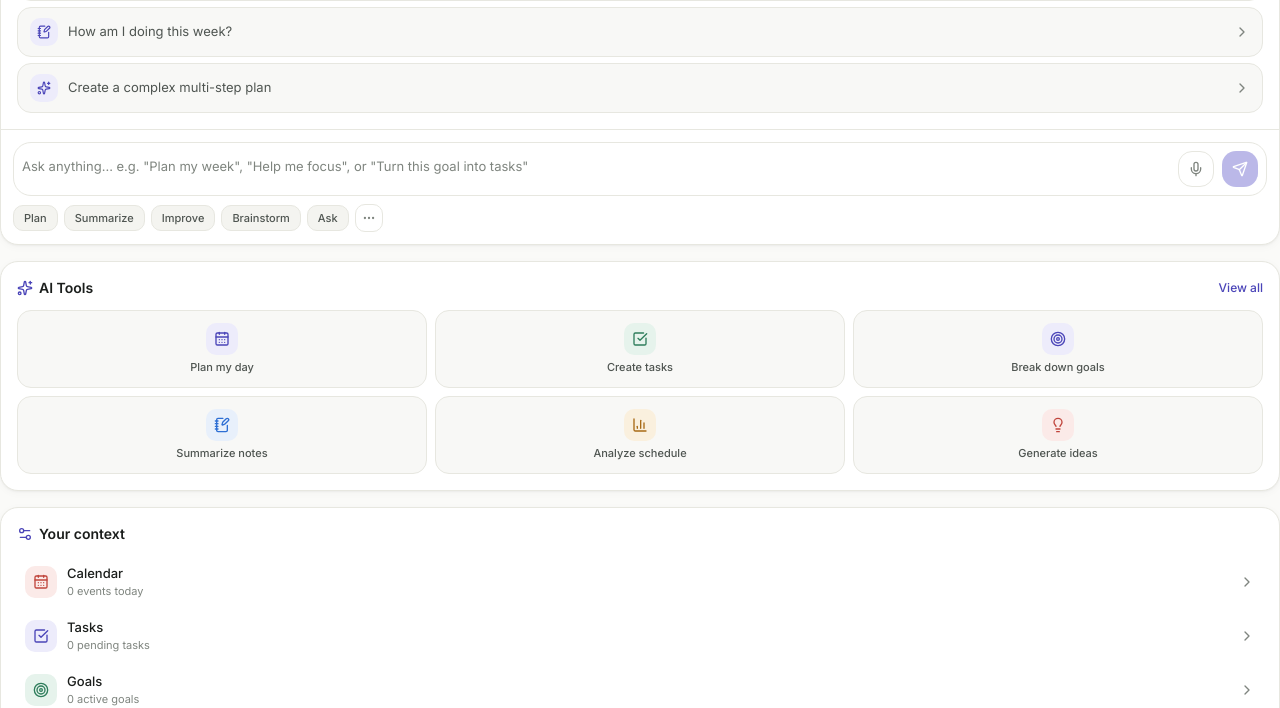
Scenario: ai tools › prefills the composer for creating a task
The width and height of the screenshot is (1280, 708).
(page scrolled)
Click the button with test id "ai-tool-create-task" at {"x": 640, "y": 349}, box [435,310,845,388]
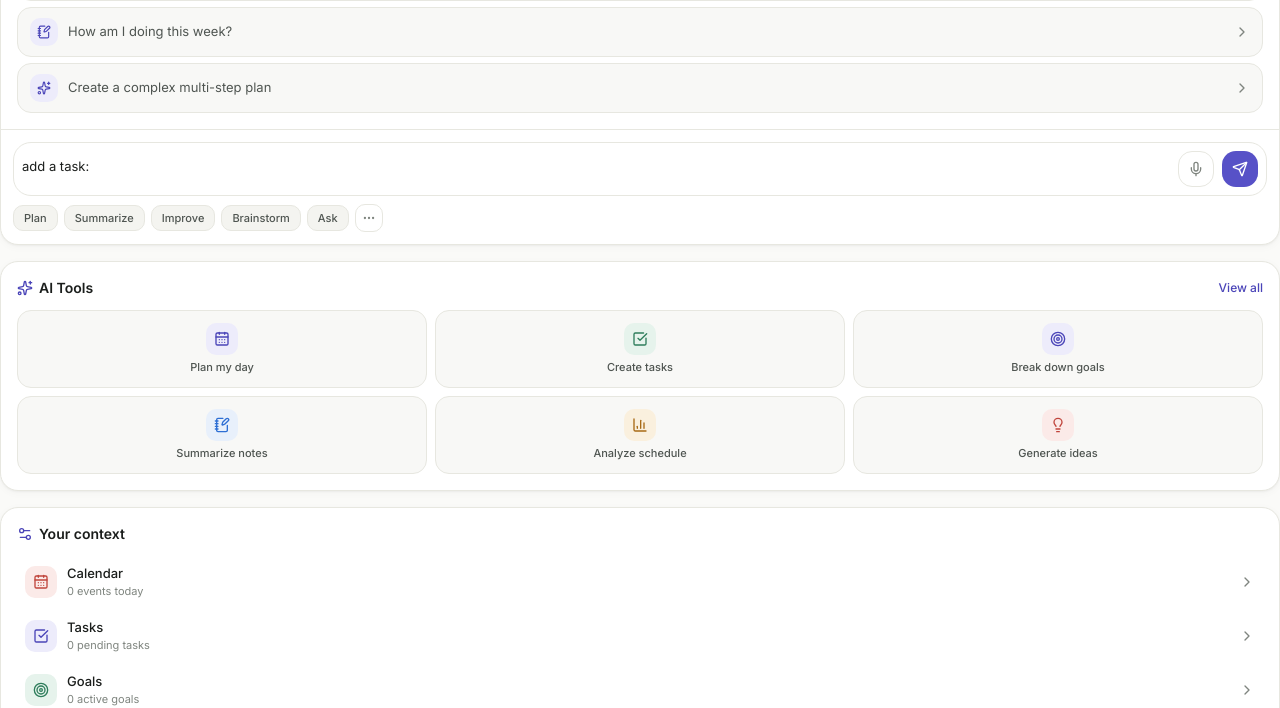
Expected: the text box with test id "ai-composer" holds "add a task: ", [22,151,1170,187]
